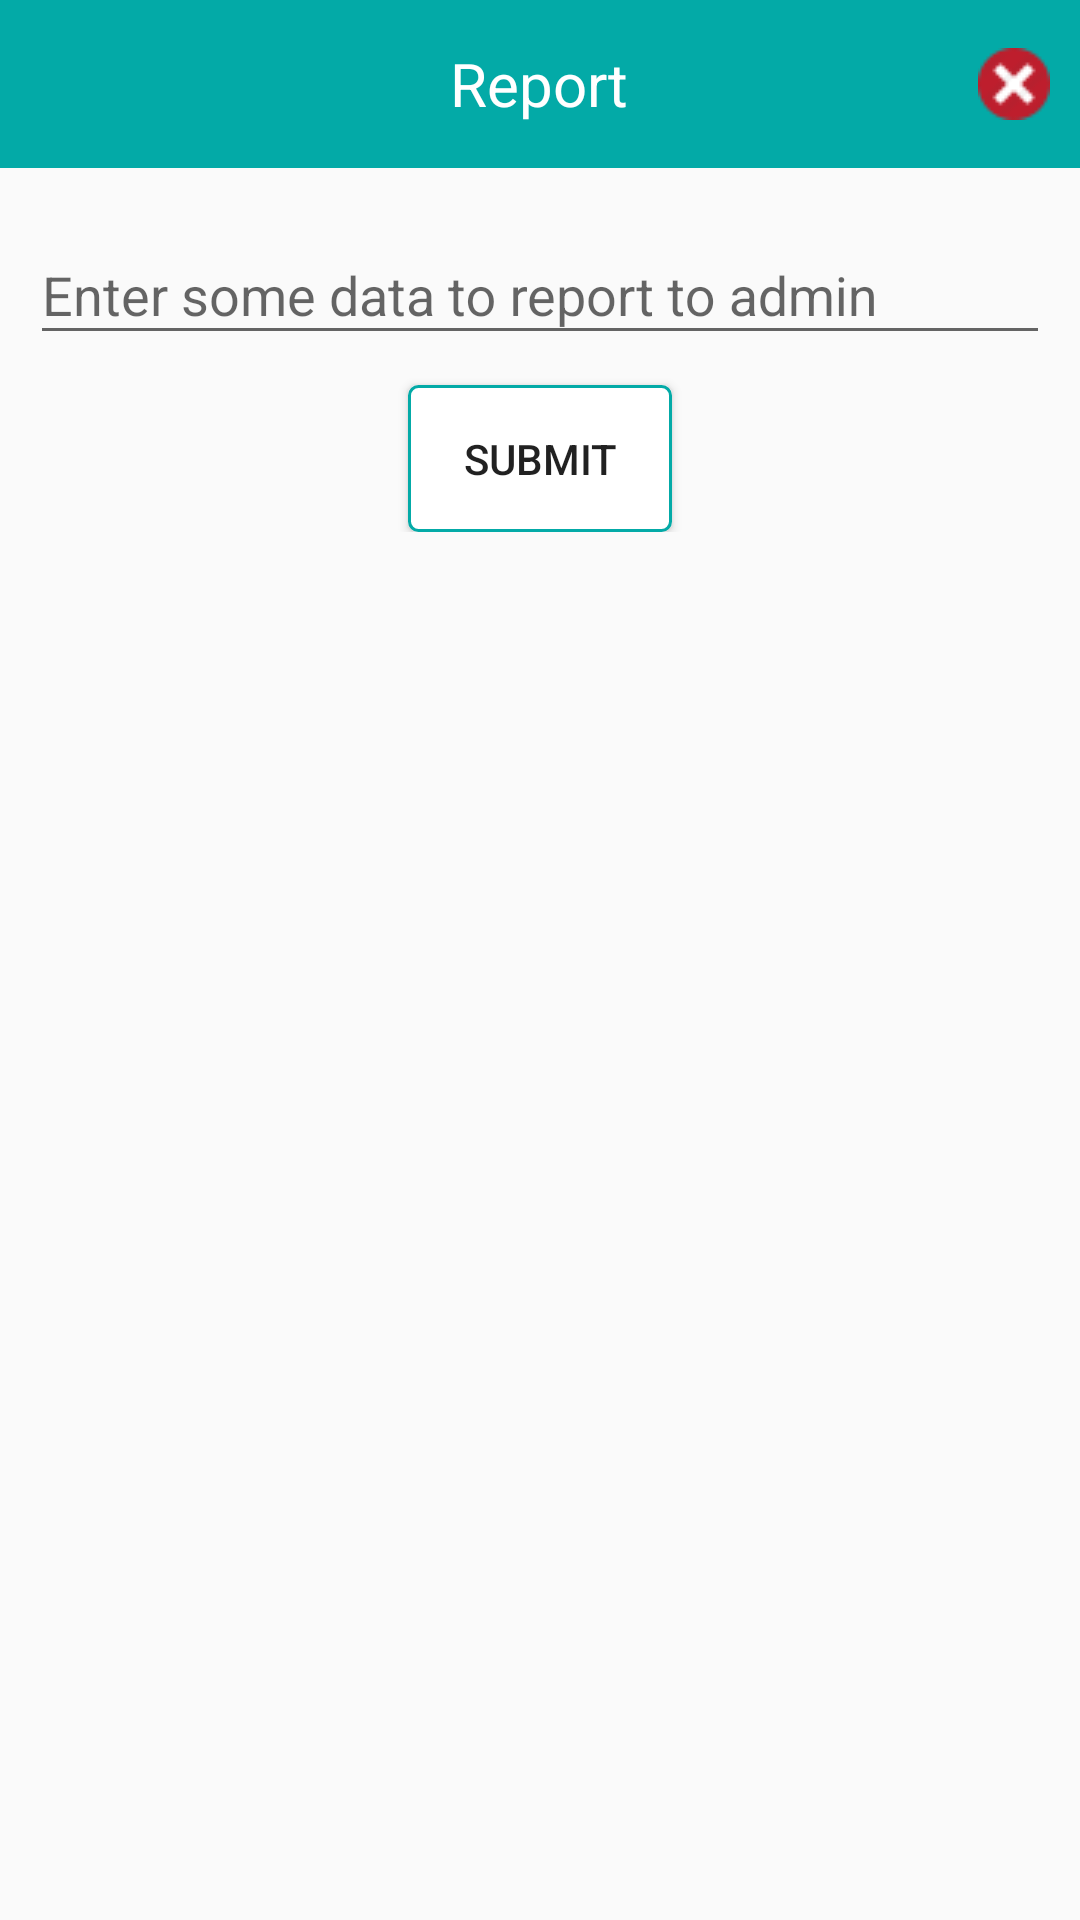

Where icons sit on this 1080px×1920px app screen, as {"x1": x1, "y1": y1, "x2": x2, "y2": y2}:
wrong: {"x1": 978, "y1": 48, "x2": 1050, "y2": 120}
